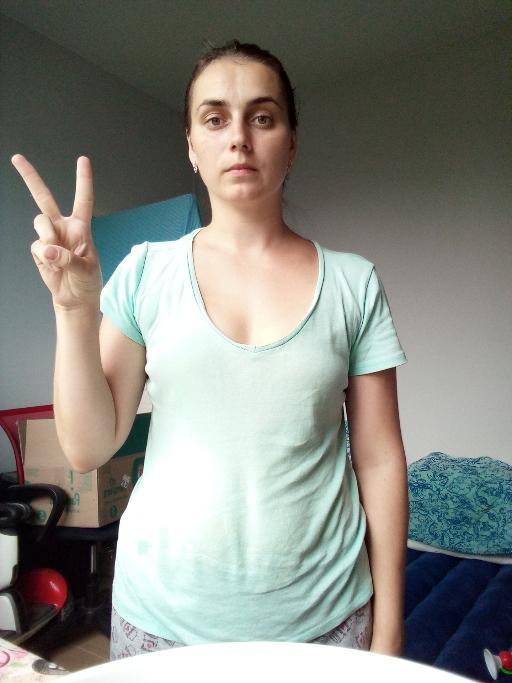peace: (7, 147, 105, 311)
